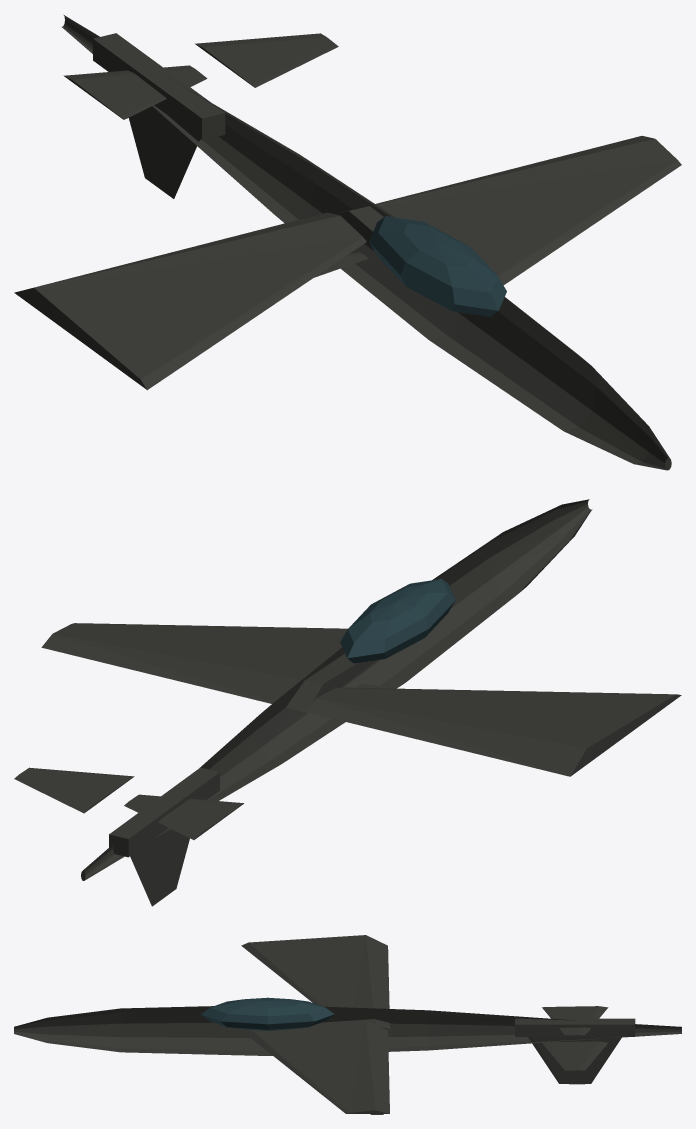
The model's file is j20_Destroyed.glb.
3 renders of one model, top to bottom at view 1: azimuth 30°, elevation 25°; view 2: azimuth 150°, elevation 25°; view 3: azimuth 270°, elevation 25°, orthographic. The views are drawn at different scales.
Visible parts, largest first — view 1: Fuselage, Wing_L, Wing_R, Cockpit, TailBoom, Elevator_R, Rudder, Elevator_L; view 2: Wing_L, Fuselage, Wing_R, Cockpit, TailBoom, Elevator_R, Rudder, Elevator_L; view 3: Fuselage, Wing_R, Wing_L, Cockpit, TailBoom, Rudder, Elevator_R, Elevator_L.
Part boxes in pixels (x1,y1,x2,y2): Fuselage: (62, 14, 671, 470); Wing_L: (14, 212, 366, 390); Wing_R: (335, 136, 681, 313); Cockpit: (369, 216, 506, 316); TailBoom: (93, 33, 225, 140); Elevator_R: (195, 33, 338, 87); Rudder: (129, 106, 200, 198); Elevator_L: (63, 65, 207, 119); Wing_L: (305, 687, 681, 776); Fuselage: (81, 499, 592, 880); Wing_R: (41, 623, 377, 711); Cockpit: (340, 579, 455, 663); TailBoom: (109, 767, 219, 857); Elevator_R: (14, 767, 134, 813); Rudder: (130, 829, 189, 906); Elevator_L: (124, 794, 243, 839); Fuselage: (14, 1006, 681, 1055); Wing_R: (241, 1019, 389, 1113); Wing_L: (241, 935, 389, 1029); Cockpit: (201, 997, 334, 1030); TailBoom: (515, 1018, 635, 1036); Rudder: (528, 1037, 621, 1084); Elevator_R: (542, 1041, 607, 1070); Elevator_L: (542, 1006, 608, 1035).
Size of the model in its own units: 12.48 by 2.85 by 20.8.
